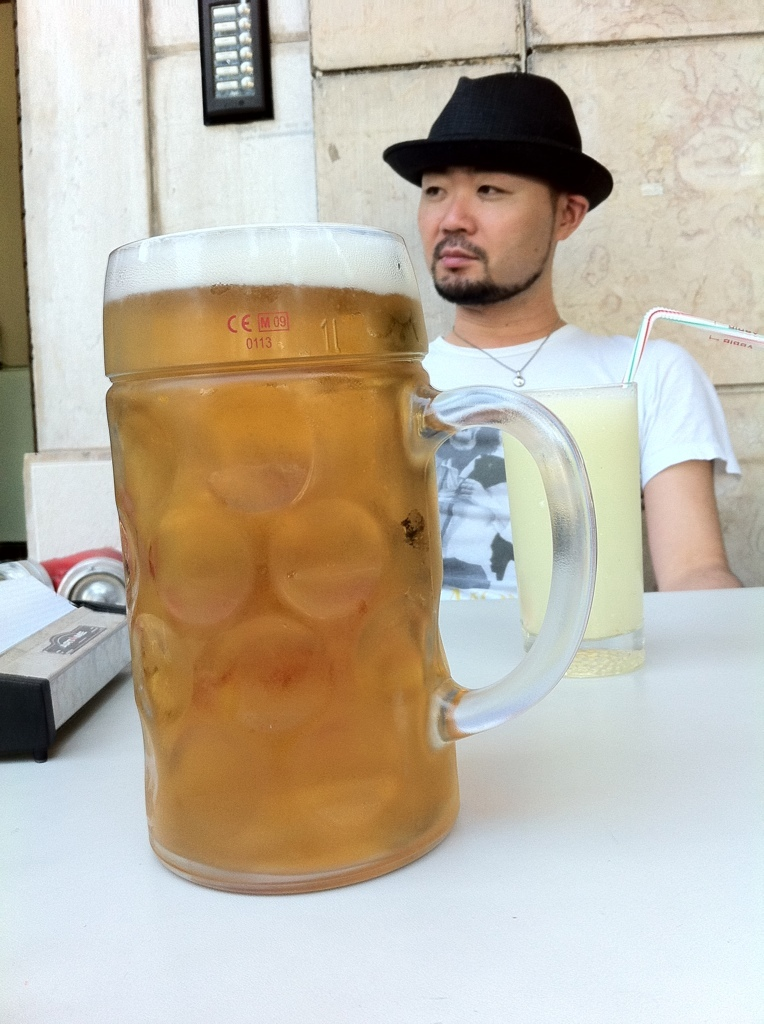Beer: (98, 232, 460, 876)
